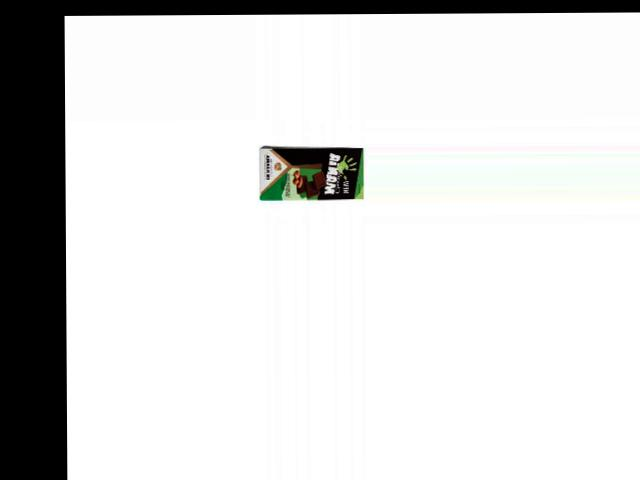chocolate: (257, 144, 365, 202)
